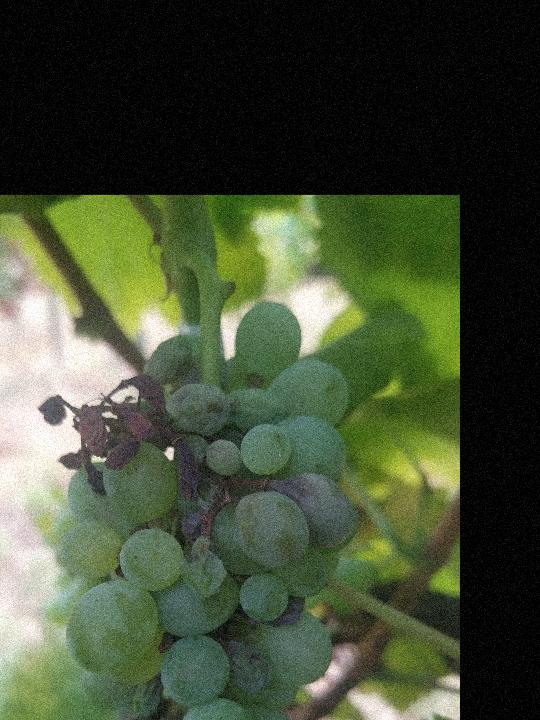grape: (35, 298, 363, 720)
